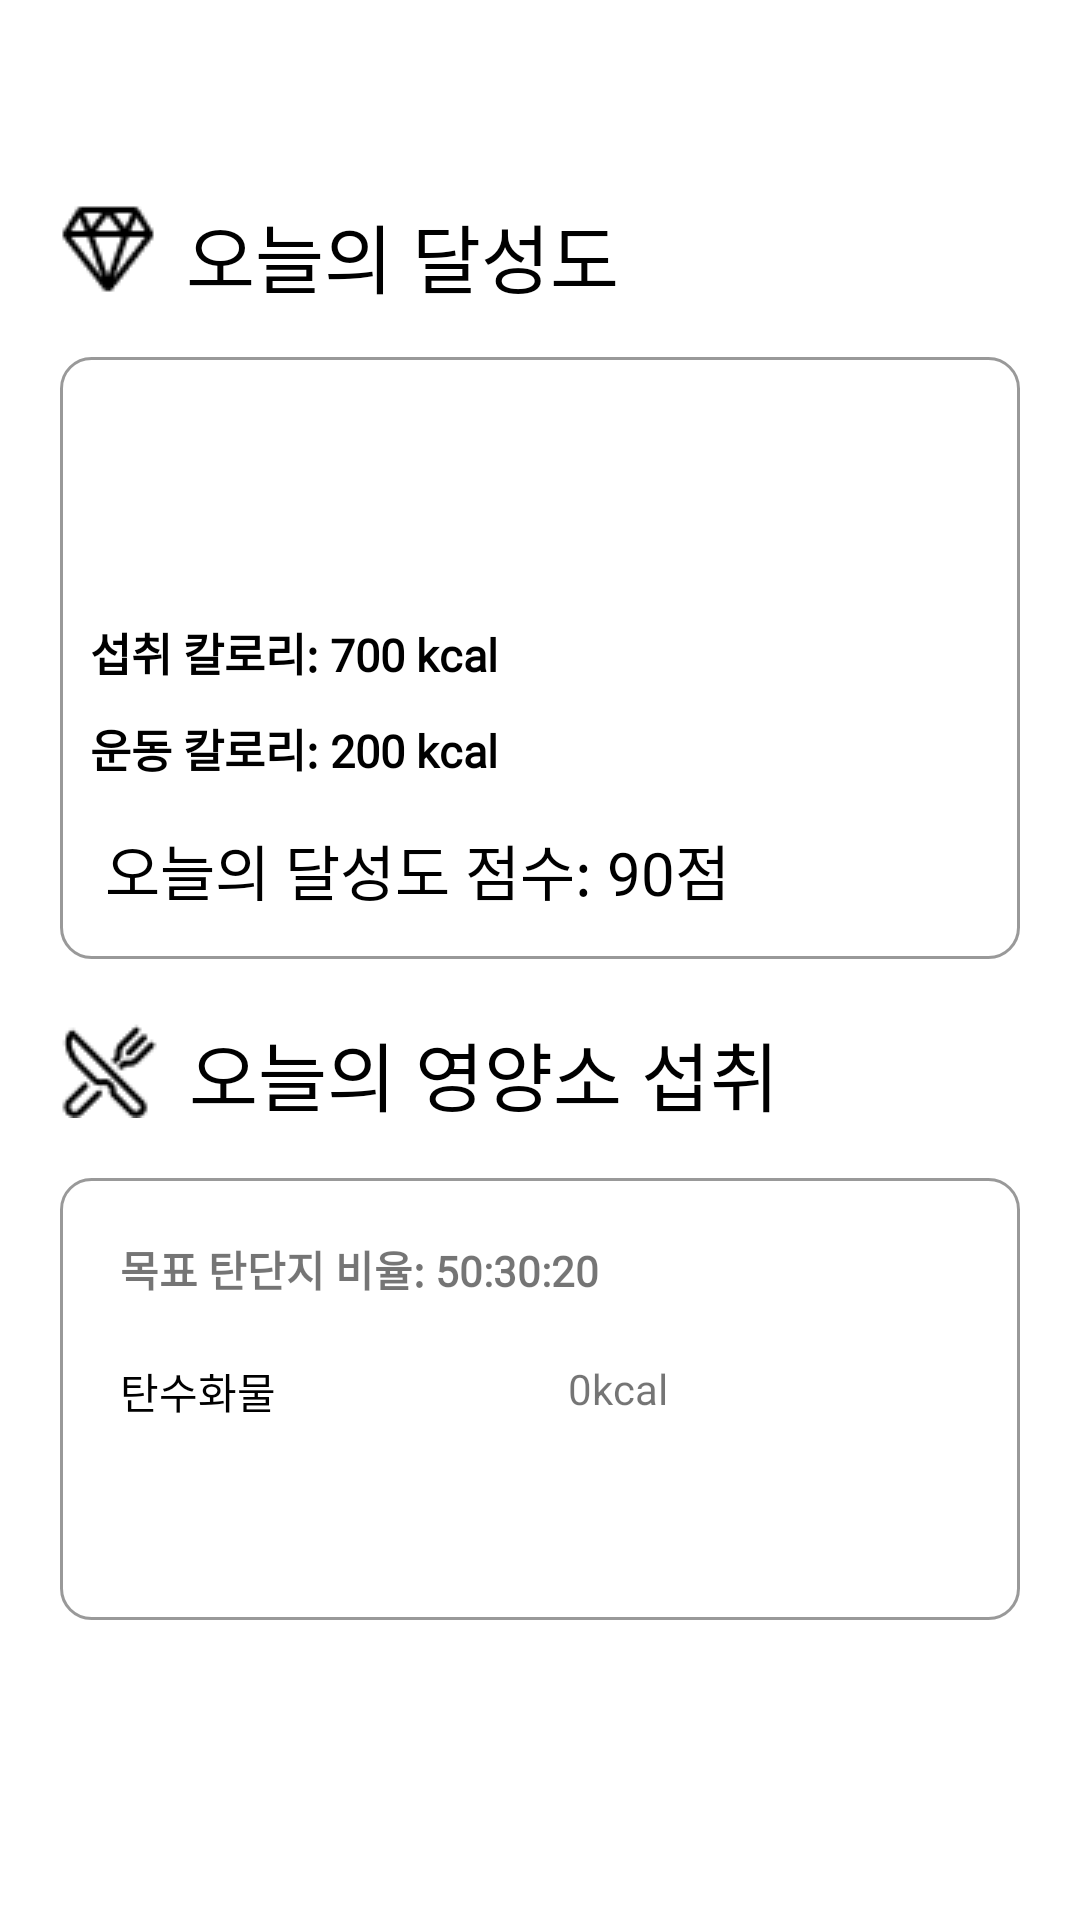

Where icons sit on this 1080w x 1920h app screen, as (left=x1, top=y1, right=x2, bottom=y2):
dia: (left=62, top=206, right=154, bottom=292)
fork: (left=62, top=1025, right=157, bottom=1118)
